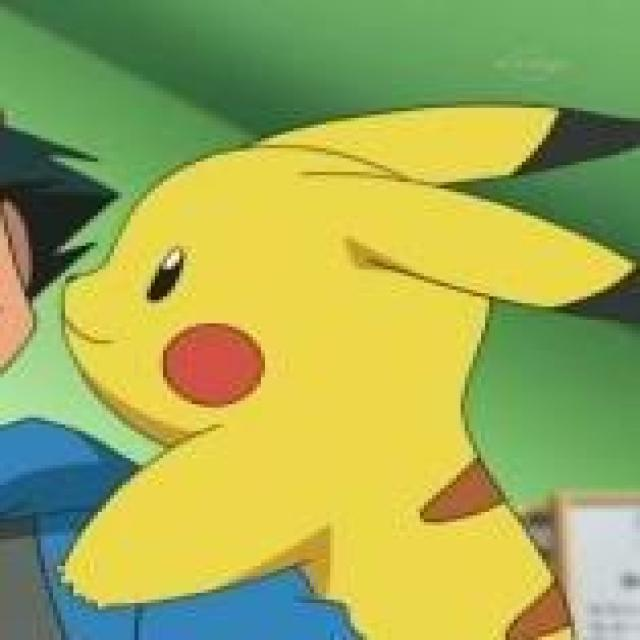pikachu: (62, 102, 640, 640)
